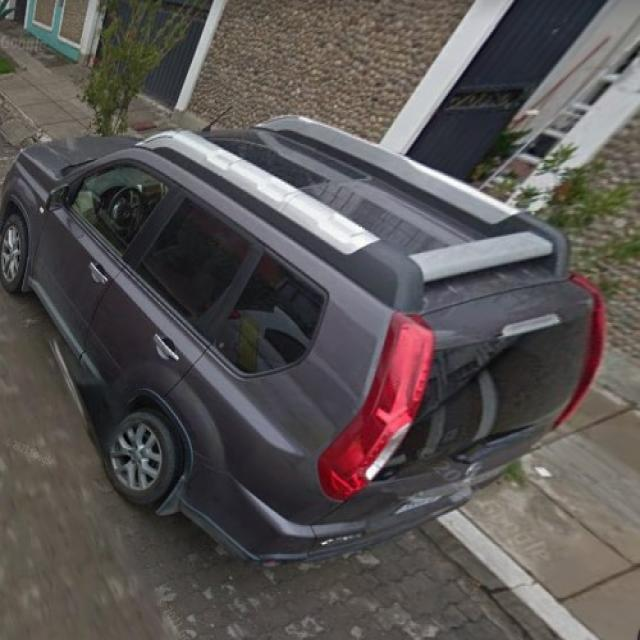cars: (4, 100, 604, 545)
